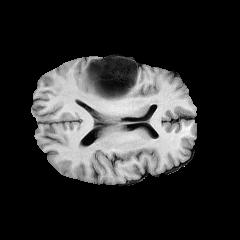glioma: (82, 56, 138, 102)
